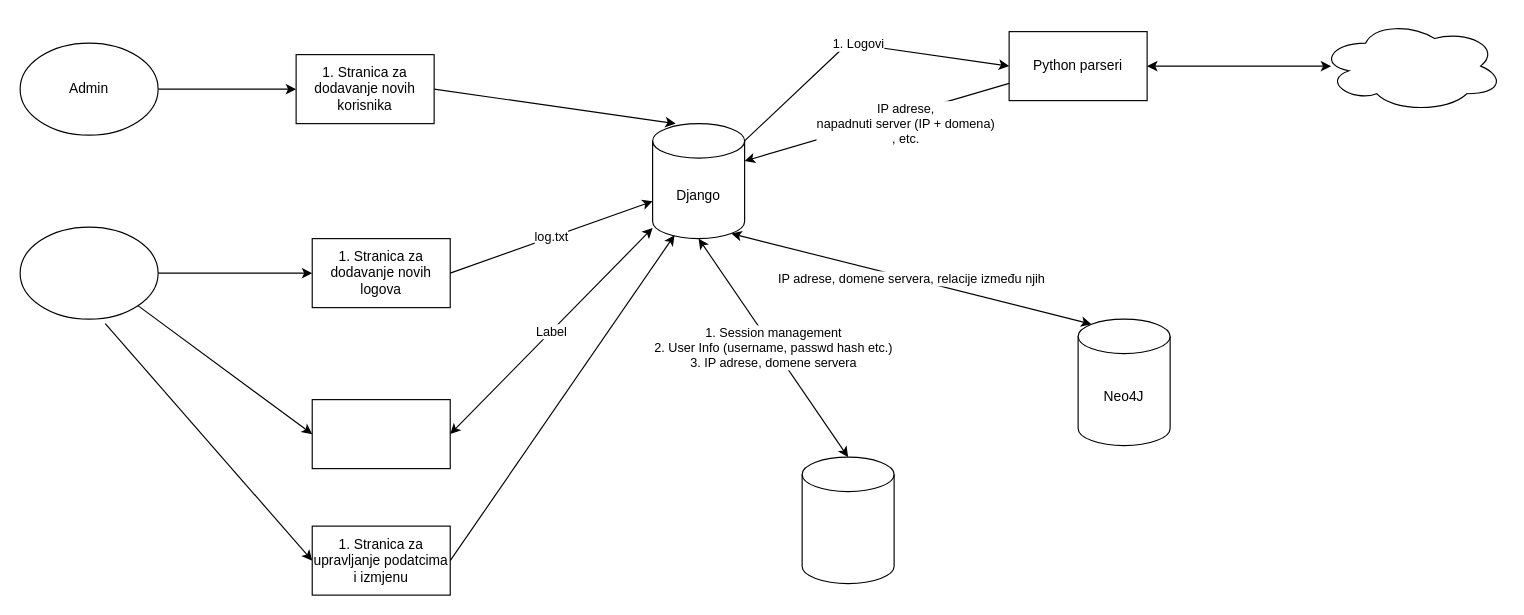
The diagram is 1524 pixels wide and 615 high, and some of its shapes have lost their labels. The shapes that lost their labels are listed below. From the top down, each one's centre as x and y in pixels, then its label:
At [1411,65]: "GeoIp, Who.is etc.".
At [88,272]: "Korisnik".
At [380,433]: "2. Pretraga po IP adresi, domeni, serveru, lokaciji etc.".
At [847,520]: "PostgreSQL".
